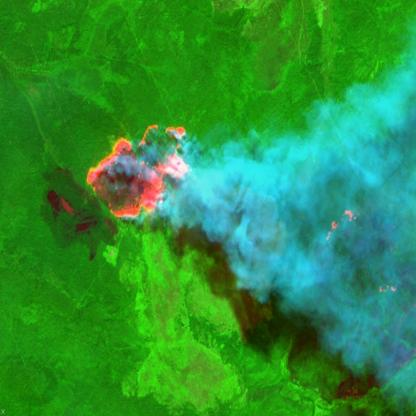fire: (82, 119, 198, 226), (318, 204, 359, 248), (375, 279, 401, 300)
